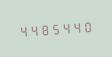eight: (39, 21, 49, 37)
five: (50, 20, 60, 36)
four: (28, 21, 38, 38), (72, 18, 82, 35), (17, 22, 27, 38), (61, 19, 71, 35)
zero: (83, 18, 93, 34)
